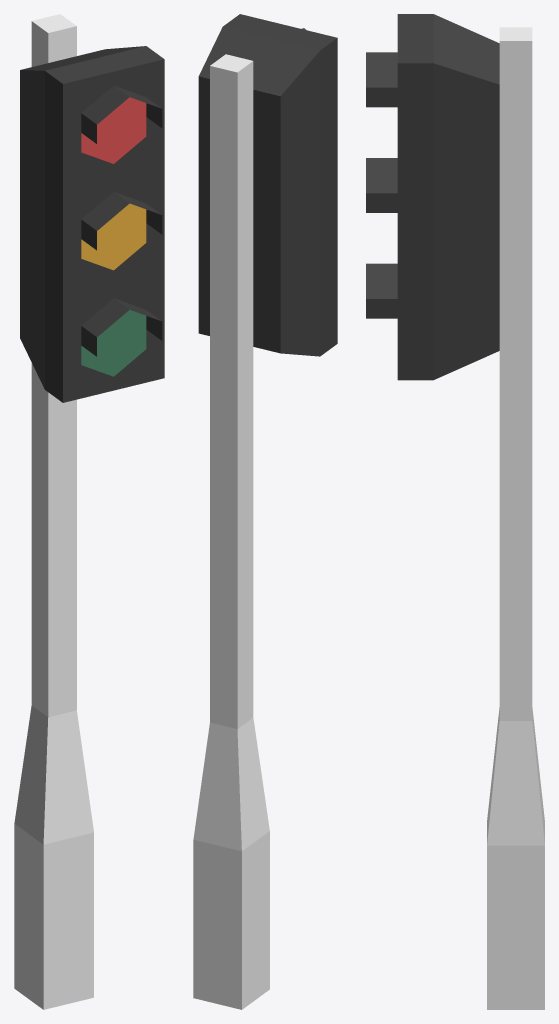
The model's file is lightColored.glb.
3 views of the same model, side by side, from view 1: azimuth 30°, elevation 25°; view 2: azimuth 150°, elevation 25°; view 3: azimuth 270°, elevation 25° (orthographic). The views are drawn at different scales.
Parts seen in each view (by area): view 1: lightColored(Clone); view 2: lightColored(Clone); view 3: lightColored(Clone).
Boxes of the visible parts, box(x1,y1,x2,y2) form: lightColored(Clone): box(14, 14, 164, 1009); lightColored(Clone): box(193, 14, 337, 1009); lightColored(Clone): box(366, 14, 544, 1009).
Bounding box in the file's own units: 0.0708 × 0.6457 × 0.1087.
